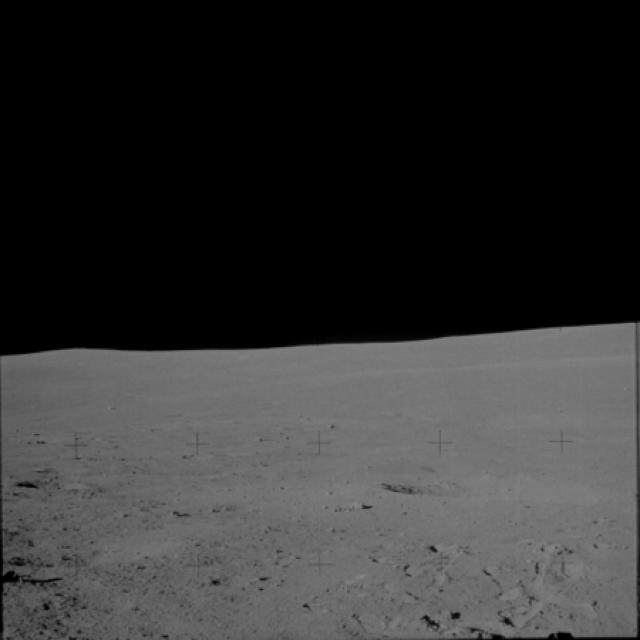crater: (374, 469, 634, 513), (0, 528, 189, 575), (8, 473, 94, 496)
